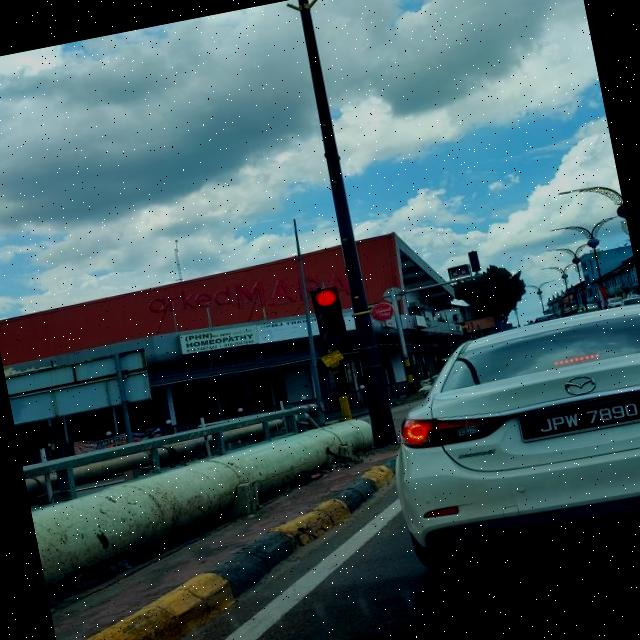red_light: (310, 285, 349, 350)
